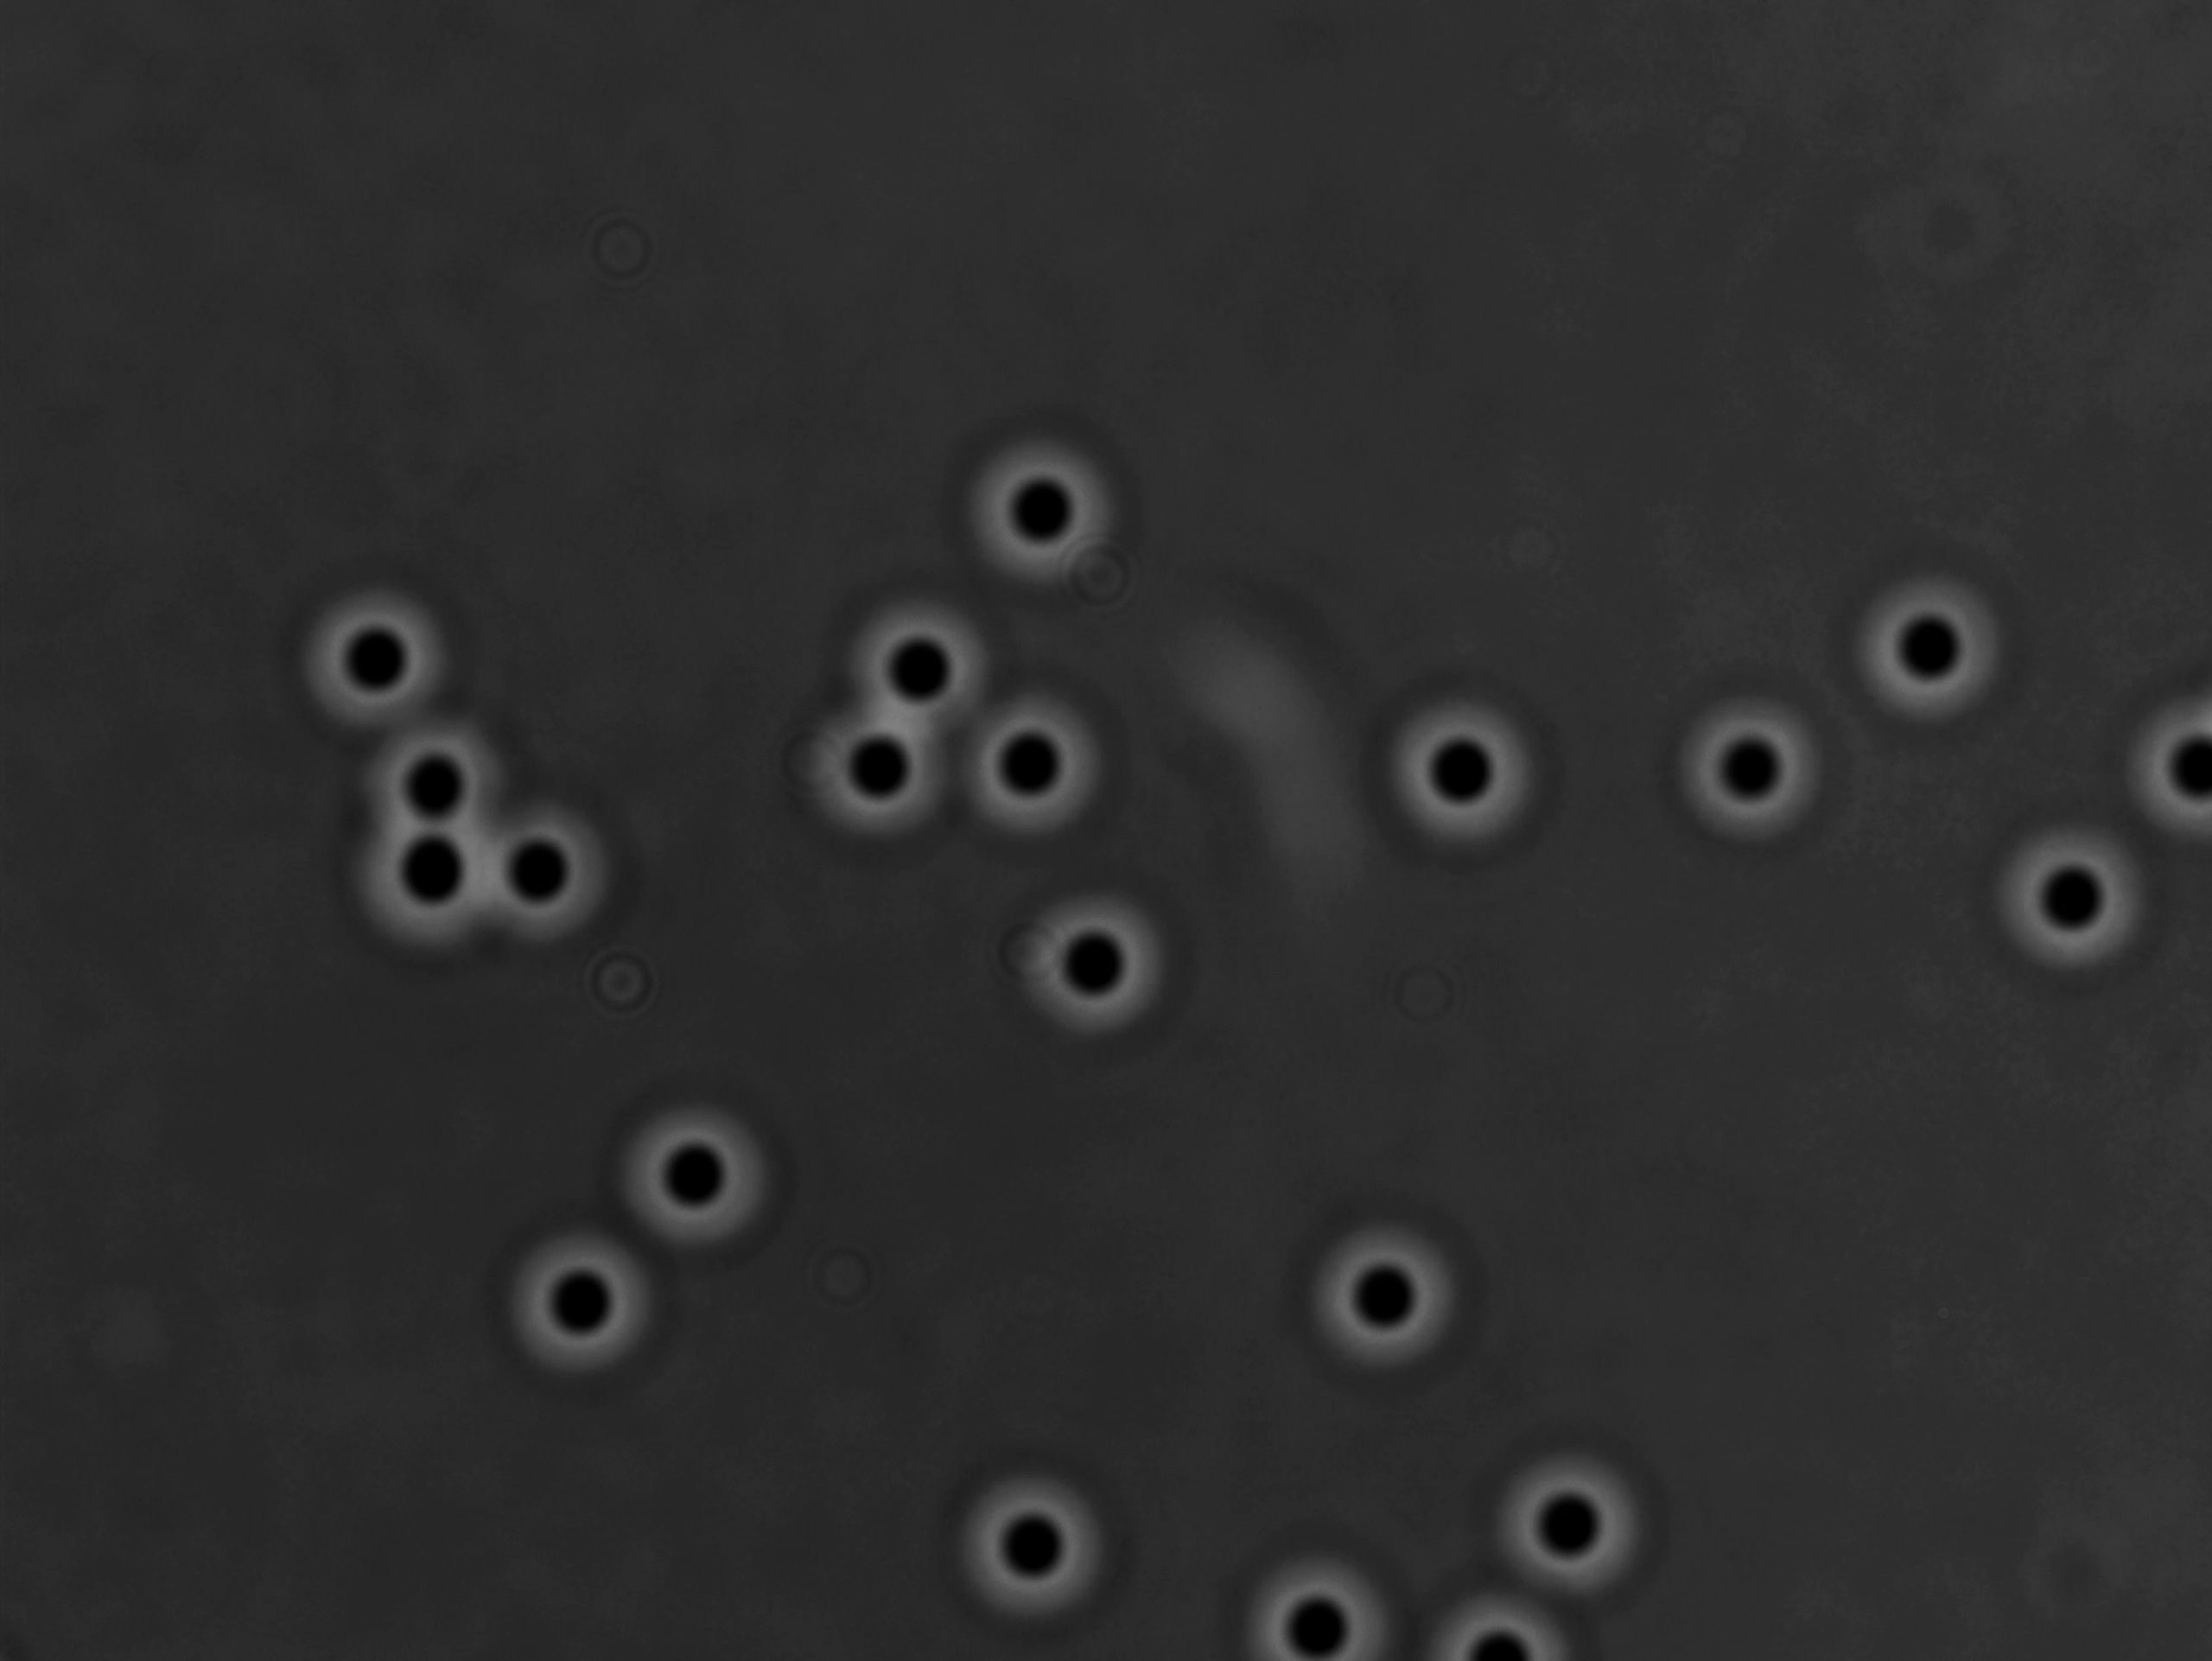depth:-80: (1652, 665, 1853, 862), (1369, 675, 1575, 867), (1287, 1190, 1483, 1377), (600, 1080, 787, 1275), (284, 572, 485, 743), (795, 684, 977, 871), (958, 424, 1148, 600), (1983, 808, 2168, 984), (1844, 562, 2018, 740), (1008, 872, 1179, 1049), (830, 590, 1005, 759), (1490, 1439, 1666, 1607), (942, 682, 1118, 848), (342, 804, 522, 965), (947, 1467, 1116, 1631), (497, 1234, 665, 1398), (351, 701, 520, 855), (471, 783, 630, 940), (1239, 1551, 1410, 1661), (2133, 658, 2212, 846)
